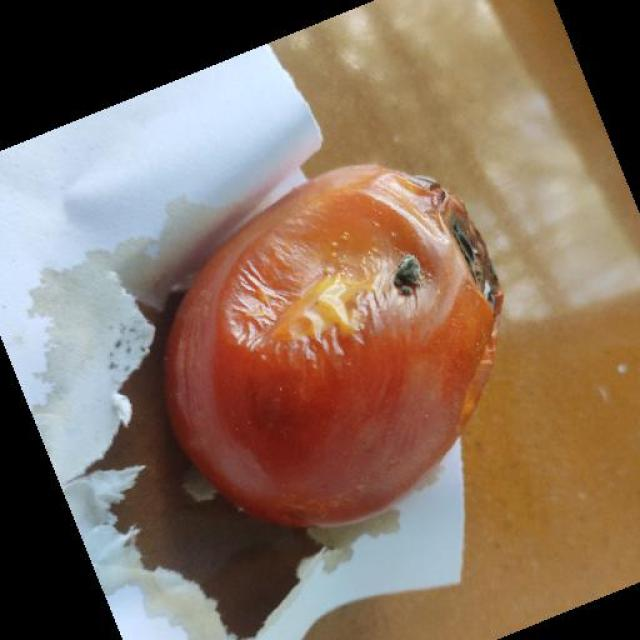Stale_tomato: (180, 145, 520, 504)
